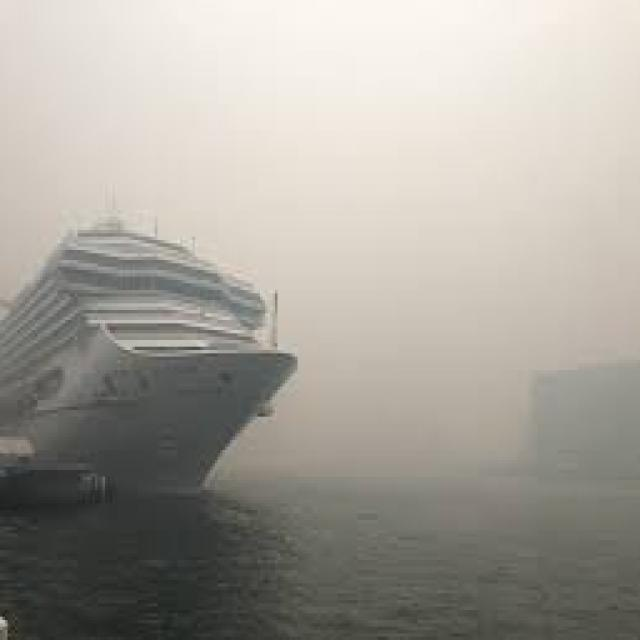passenger ship: (0, 197, 295, 490)
